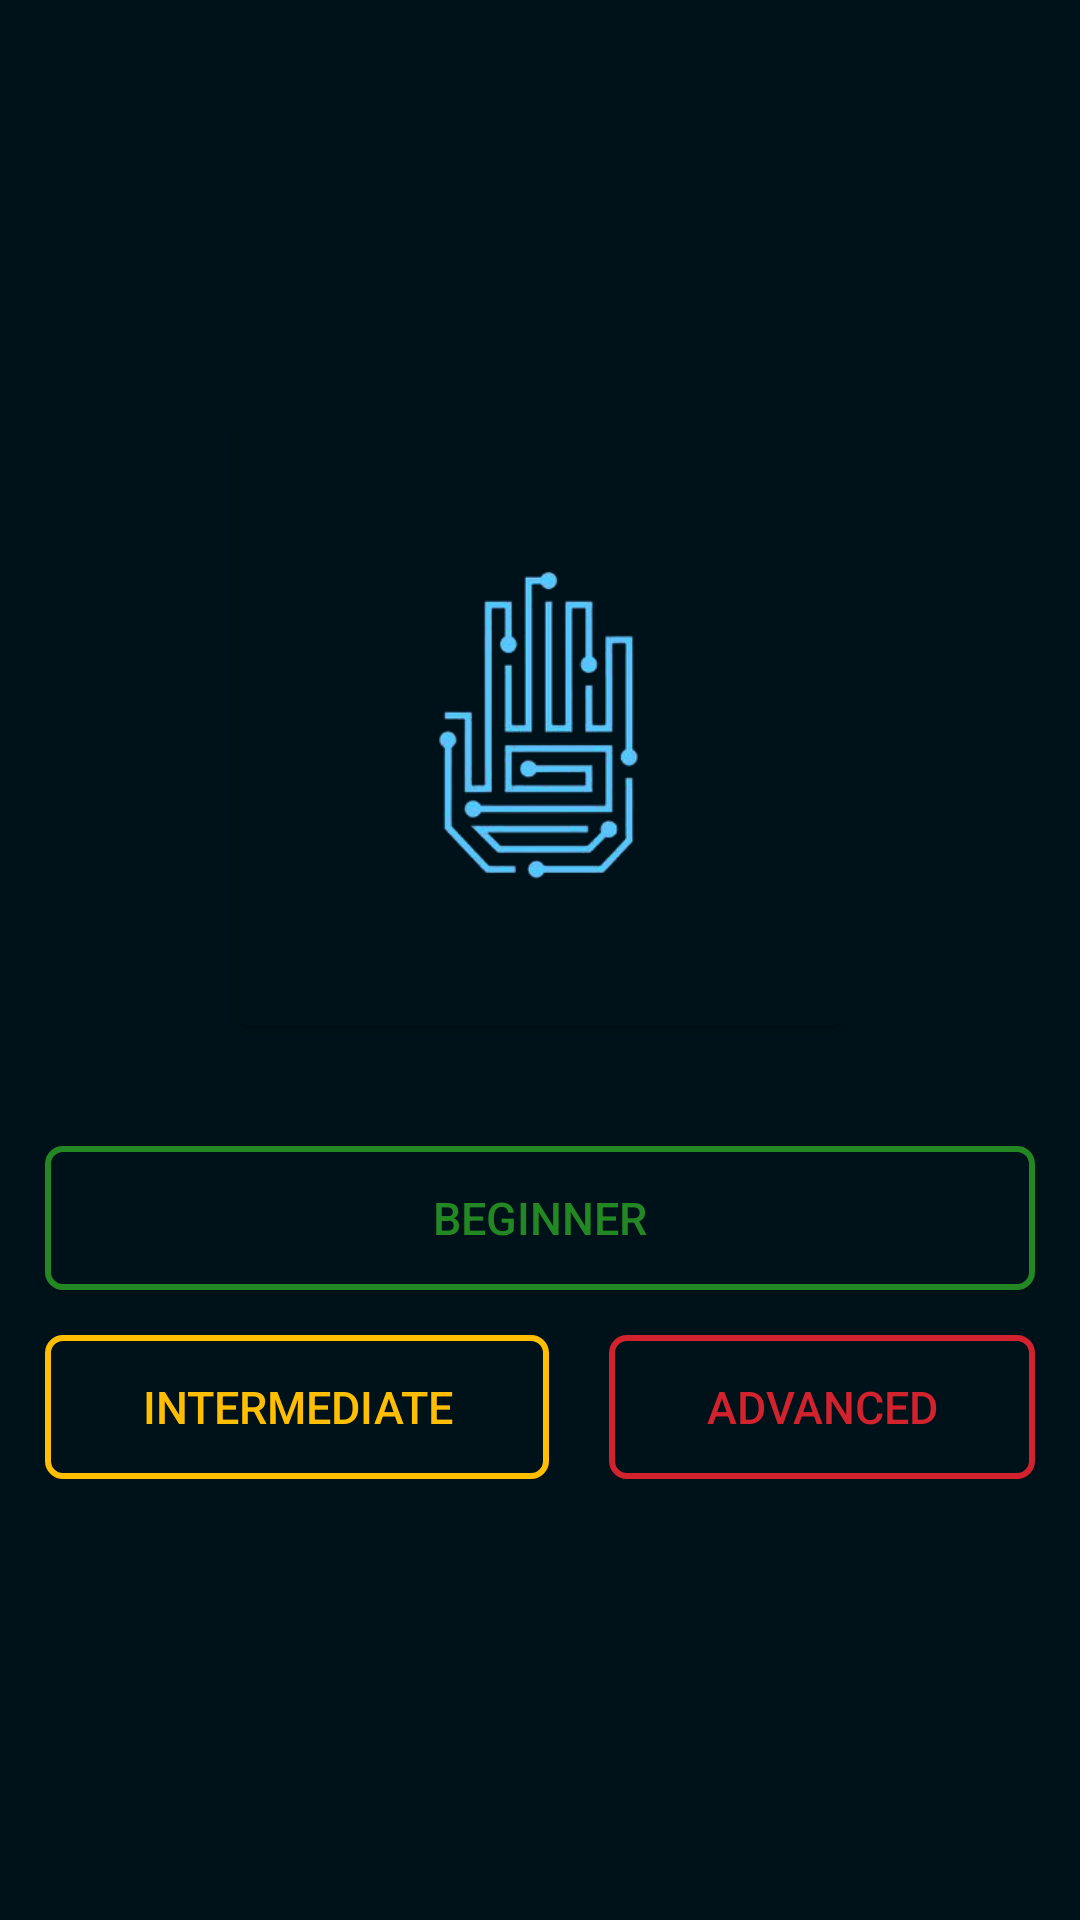

Named icons in this screenshot (1080×1920) and their centers, (x,y):
hand: (538,725)
